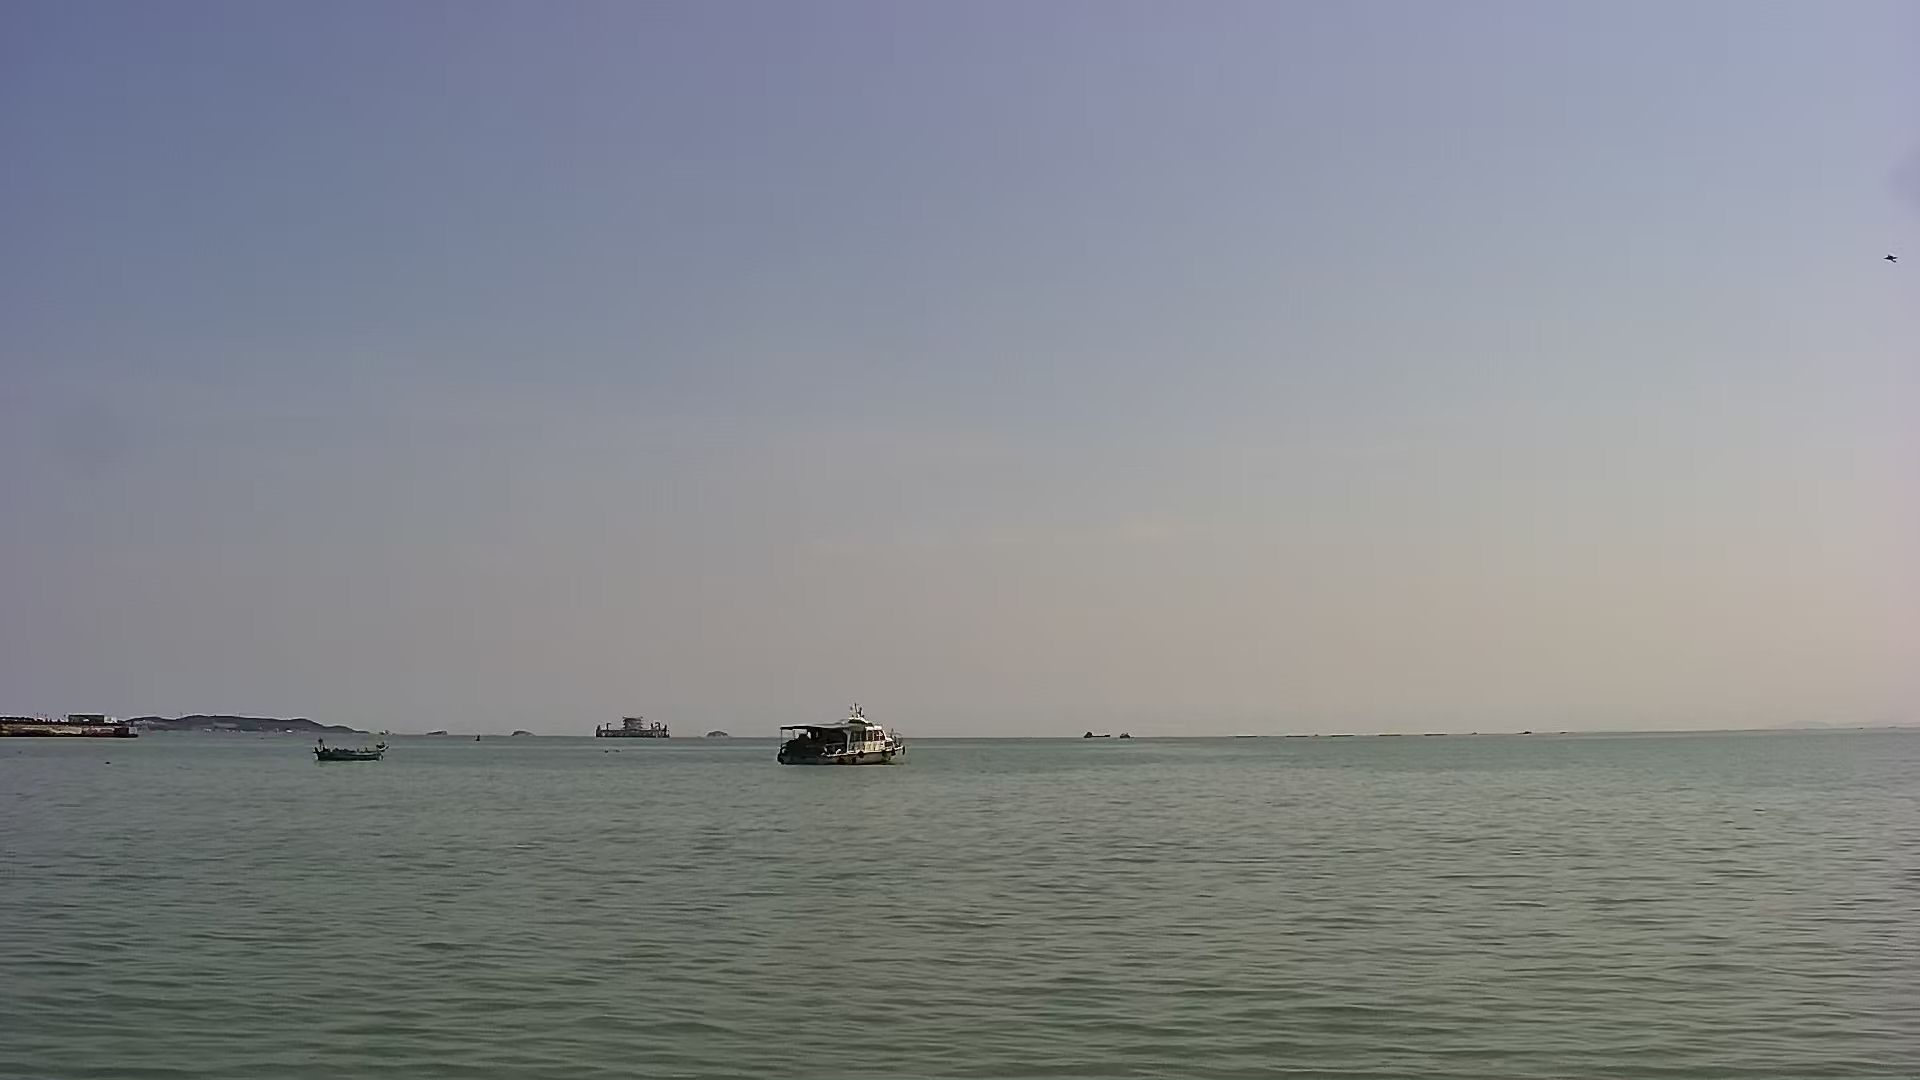boat: (309, 738, 393, 764)
platform: (588, 715, 670, 742)
ship: (775, 702, 901, 767)
